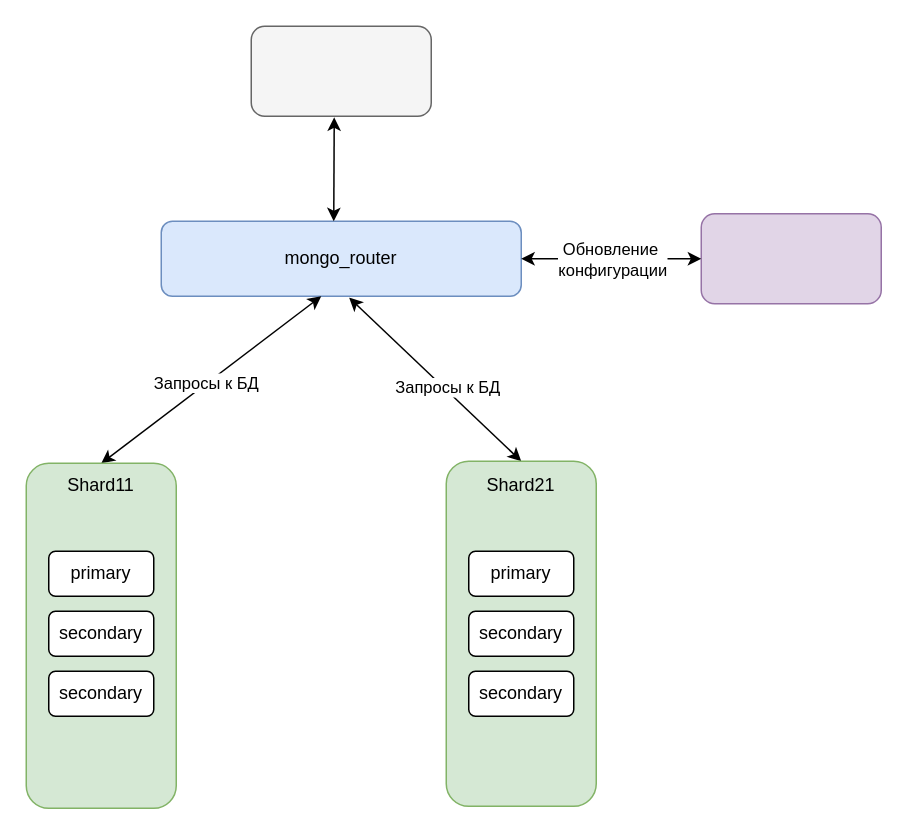
Some shapes in this 908 by 836 pixel diagram are drawn without their labels. The centre of each missing label's shape, as x and y in pixels:
configSrv: point 790,258
pymongo-api: point 340,70
